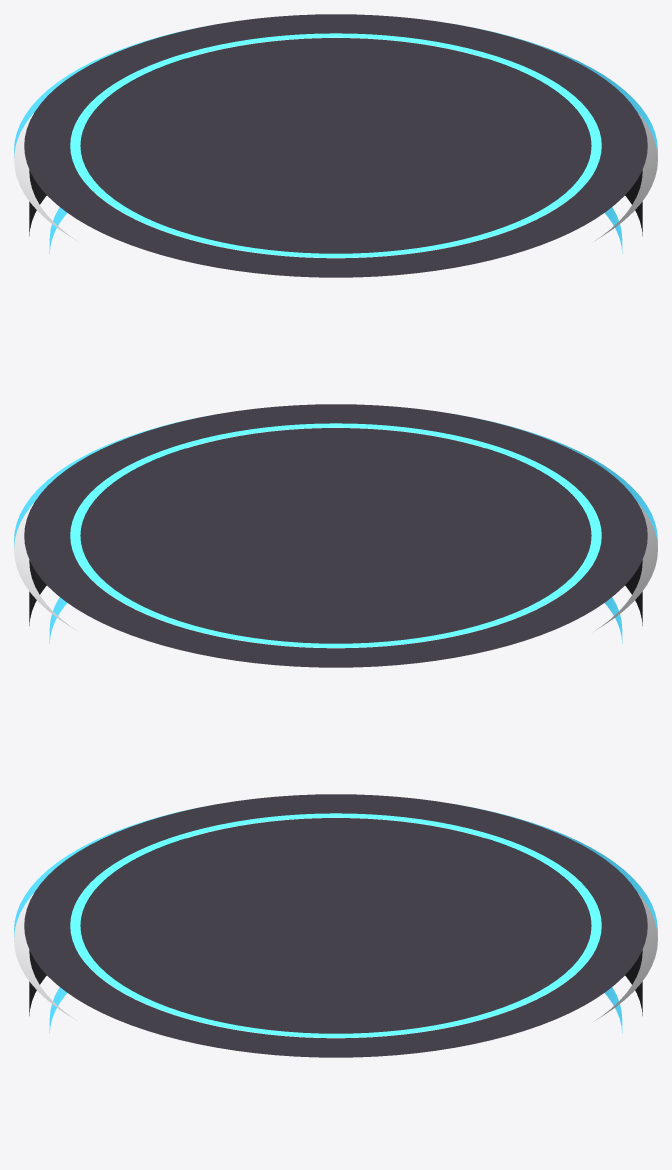
File: podium_sapphire.glb
3 renders of one model, top to bottom at view 1: azimuth 30°, elevation 25°; view 2: azimuth 150°, elevation 25°; view 3: azimuth 270°, elevation 25°, orthographic.
Parts seen in each view (by area): view 1: p8, p6, p7, p3, p4, p2; view 2: p8, p6, p7, p3, p4, p2; view 3: p8, p6, p7, p3, p4, p2.
Boxes of the visible parts, box(x1,y1,x2,y2) form: p8: box(80, 38, 591, 253); p6: box(24, 14, 647, 277); p7: box(70, 33, 601, 257); p3: box(14, 37, 657, 240); p4: box(14, 24, 657, 157); p2: box(29, 58, 642, 235); p8: box(80, 428, 591, 643); p6: box(24, 404, 647, 667); p7: box(70, 423, 601, 647); p3: box(14, 427, 657, 630); p4: box(14, 414, 657, 547); p2: box(29, 448, 642, 625); p8: box(80, 818, 591, 1033); p6: box(24, 794, 647, 1057); p7: box(70, 813, 601, 1037); p3: box(14, 817, 657, 1020); p4: box(14, 804, 657, 937); p2: box(29, 838, 642, 1015).
Size of the model in its own units: 2.52 by 0.471 by 2.52.
